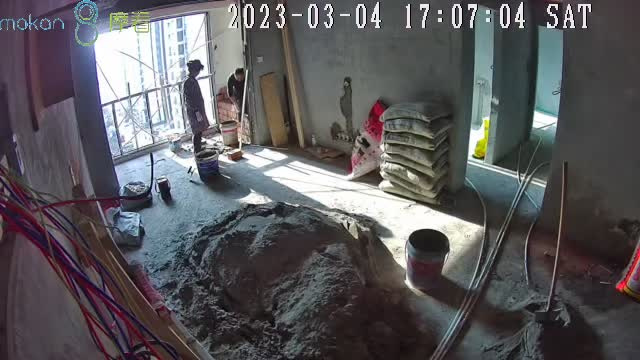people: (182, 59, 207, 155), (225, 66, 250, 122)
window: (93, 13, 218, 158)
